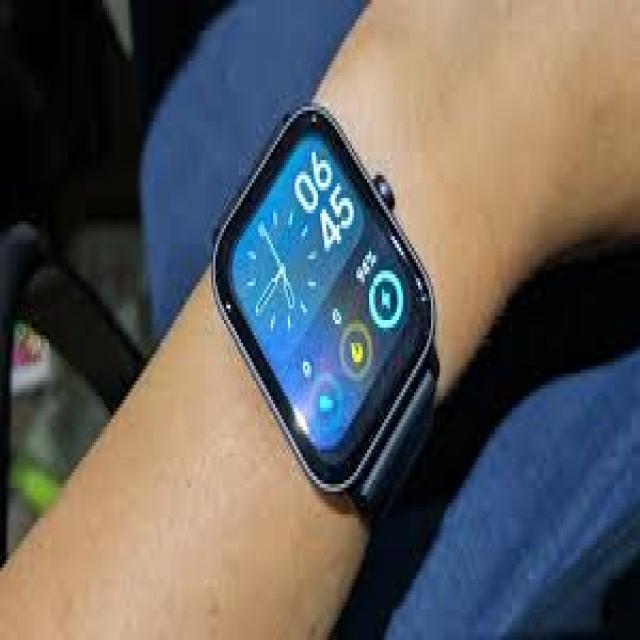objects: (210, 103, 441, 514)
